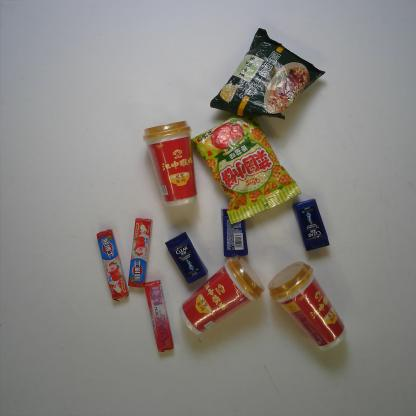Candy: (96, 228, 130, 302), (144, 280, 174, 352), (127, 217, 153, 288)
Instant Drink: (267, 261, 347, 352), (178, 256, 266, 337), (141, 119, 198, 209)
Instant Noodles: (209, 27, 326, 120)
Personal Hygiene: (164, 231, 208, 284), (292, 198, 330, 252), (221, 209, 249, 258)
Puffed Food: (190, 115, 302, 225)
